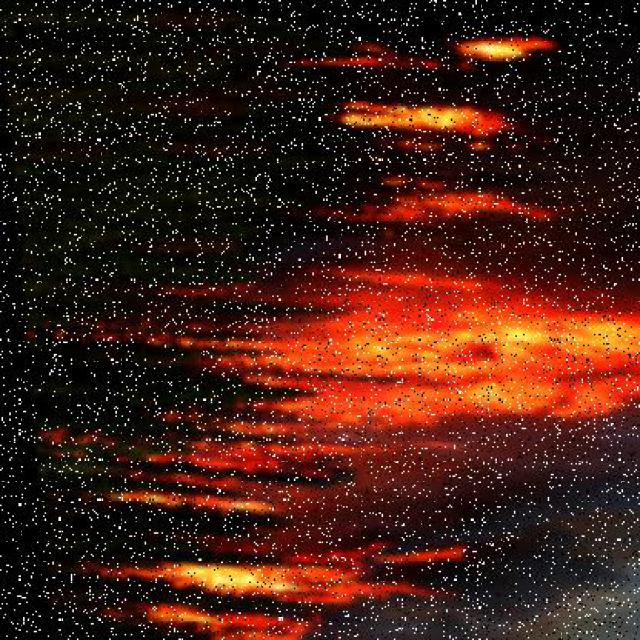fire: (200, 11, 640, 457)
